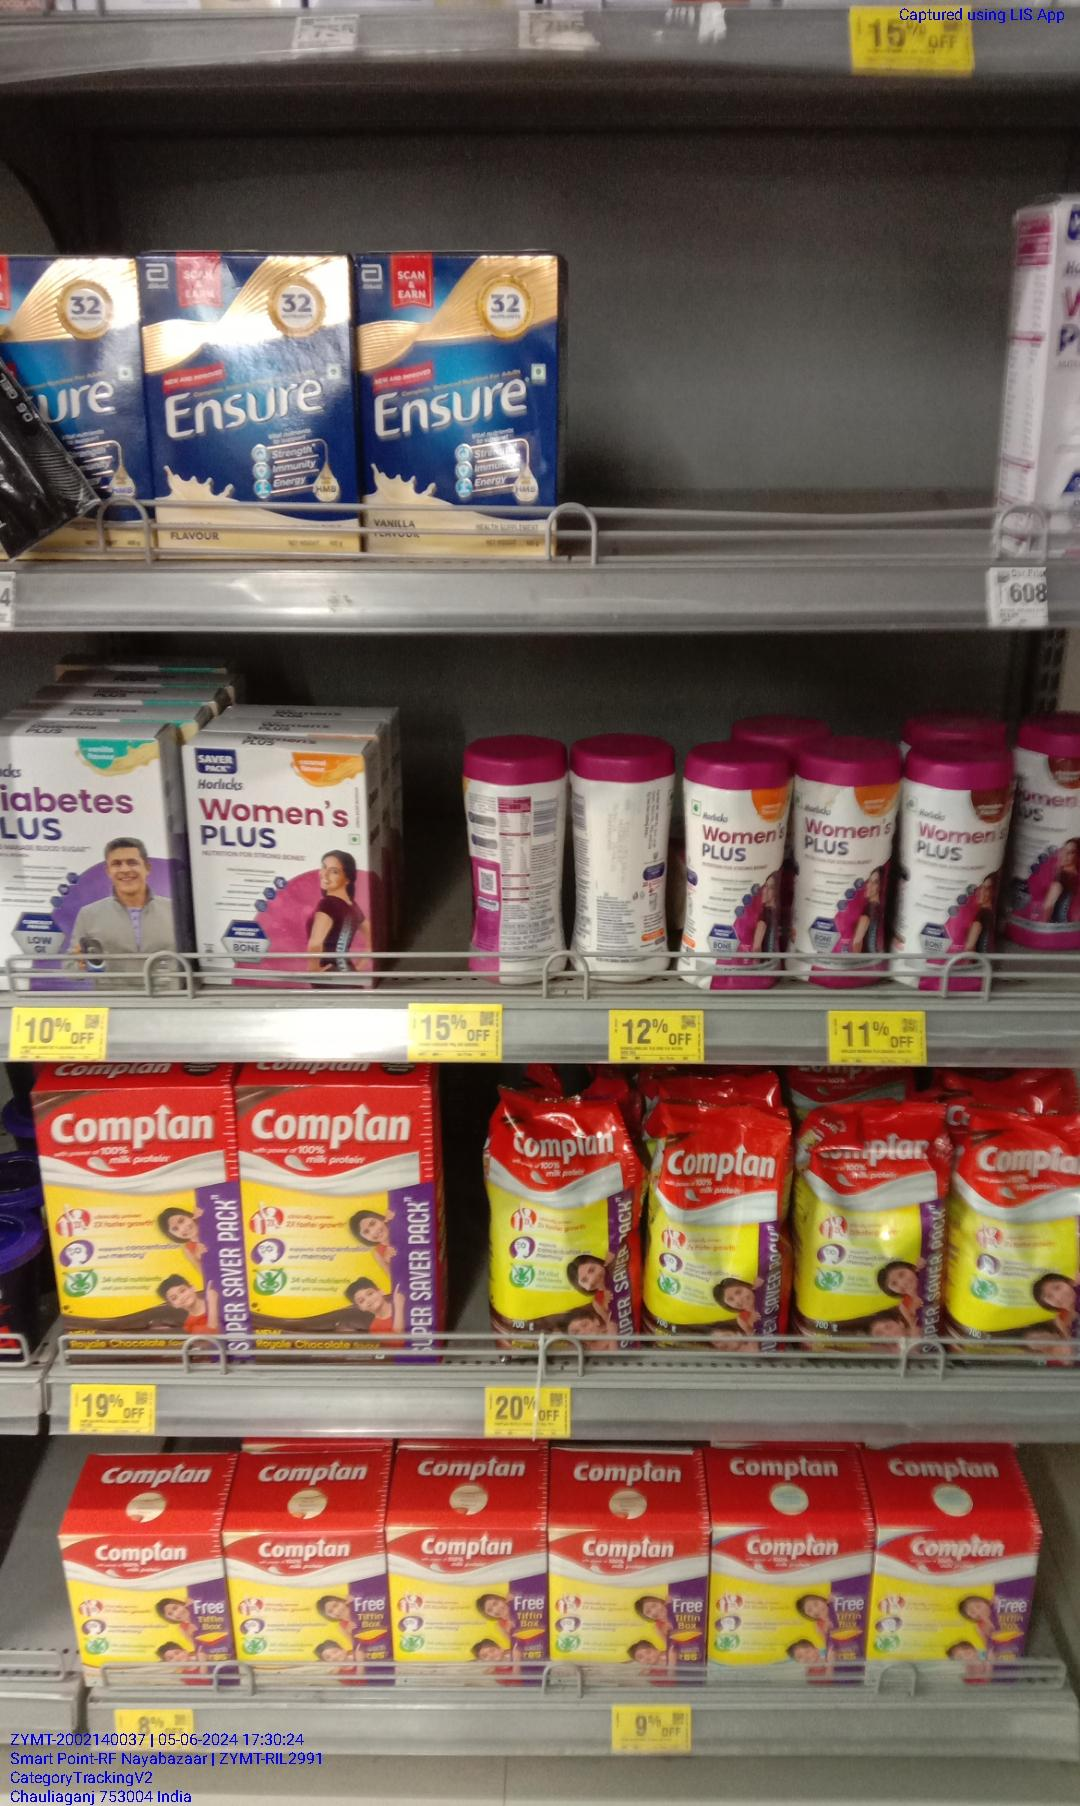ENSURE_VANILLA_400_G_PACK: (360, 258, 562, 564), (143, 258, 342, 553)
